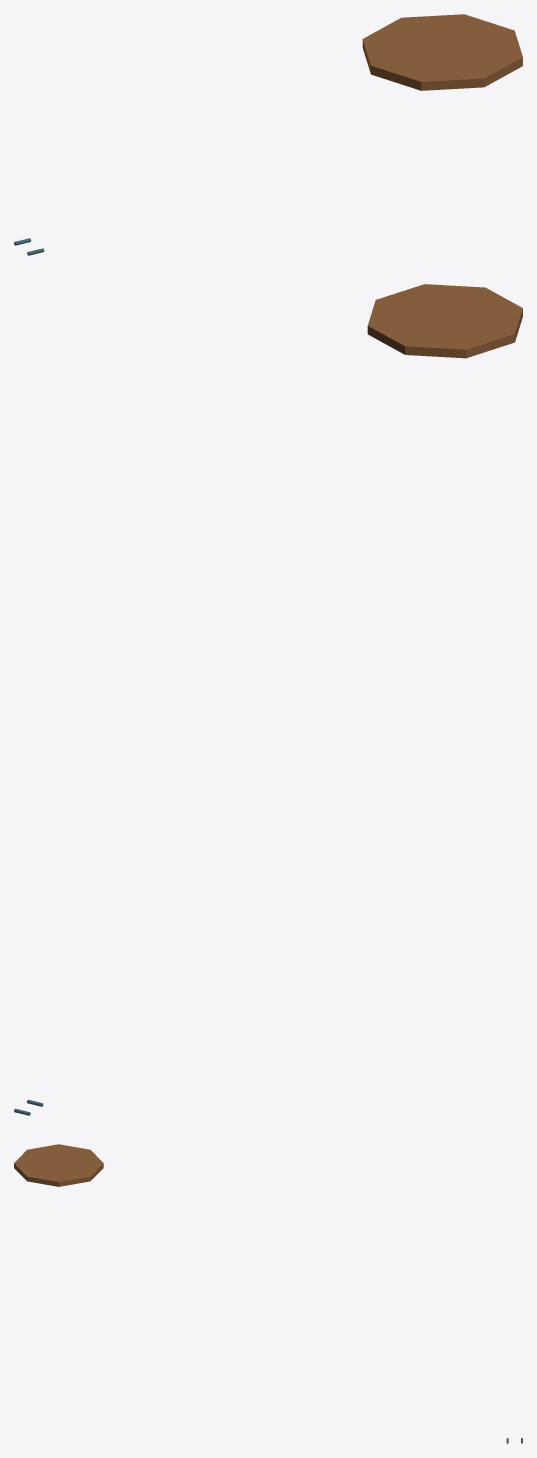
3 renders of one model, top to bottom at view 1: azimuth 30°, elevation 25°; view 2: azimuth 150°, elevation 25°; view 3: azimuth 270°, elevation 25°, orthographic. The views are drawn at different scales.
Parts seen in each view (by area): view 1: Cylinder1720_brown_0; view 2: Cylinder1720_brown_0; view 3: Cylinder1720_brown_0.
Boxes of the visible parts, left/top/right/bottom form: Cylinder1720_brown_0: left=362, top=14, right=522, bottom=90; Cylinder1720_brown_0: left=367, top=284, right=522, bottom=358; Cylinder1720_brown_0: left=14, top=1144, right=103, bottom=1186.
Size of the model in its own units: 518 by 1761 by 2940.
